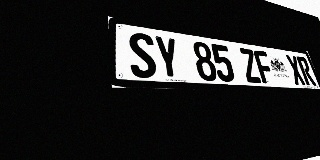5: (210, 43, 236, 82)
8: (191, 41, 218, 81)
F: (253, 50, 276, 84)
R: (296, 56, 316, 86)
S: (127, 31, 158, 79)
X: (285, 55, 306, 85)
Y: (153, 35, 182, 80)
Z: (238, 48, 262, 83)
